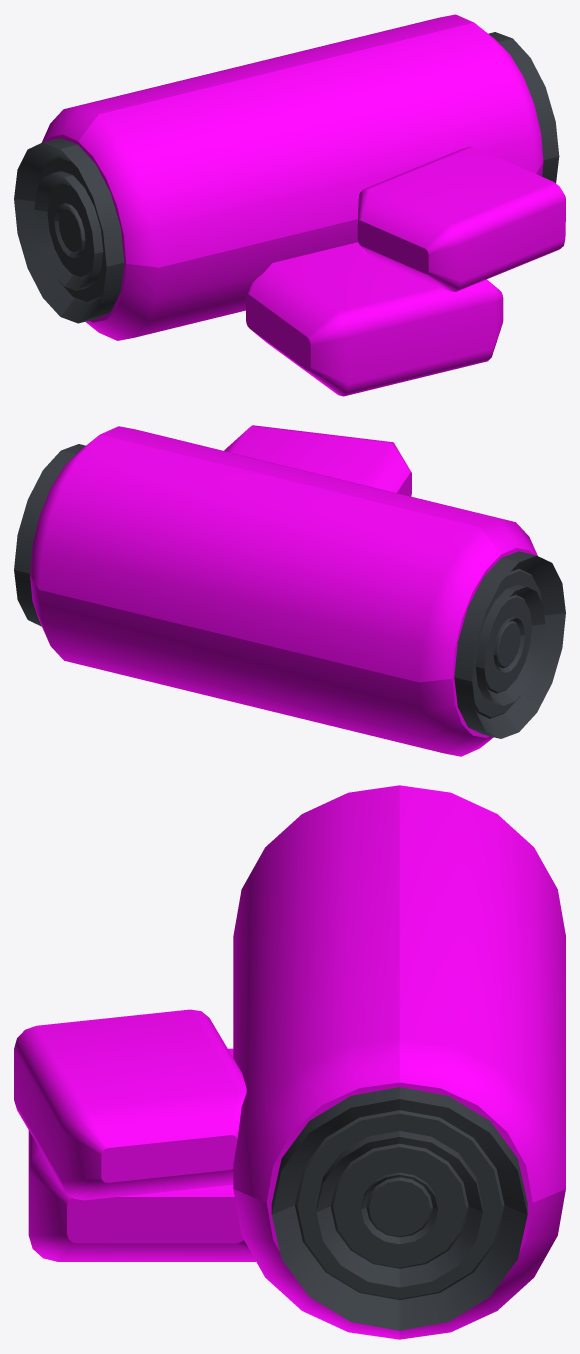
The model's file is objet_caoutchouc.glb.
3 views of the same model, one above another, from view 1: azimuth 30°, elevation 25°; view 2: azimuth 150°, elevation 25°; view 3: azimuth 270°, elevation 25° (orthographic). The views are drawn at different scales.
Parts seen in each view (by area): view 1: caoutchouc_teinte.002, caoutchouc_teinte_sombre.002; view 2: caoutchouc_teinte.002, caoutchouc_teinte_sombre.002; view 3: caoutchouc_teinte.002, caoutchouc_teinte_sombre.002.
Part boxes in pixels (x1,y1,x2,y2): caoutchouc_teinte.002: (42, 14, 565, 396); caoutchouc_teinte_sombre.002: (14, 32, 559, 323); caoutchouc_teinte.002: (30, 425, 537, 756); caoutchouc_teinte_sombre.002: (14, 444, 565, 738); caoutchouc_teinte.002: (14, 785, 565, 1339); caoutchouc_teinte_sombre.002: (271, 1087, 527, 1330).
Bounding box in the file's own units: 0.282 × 0.13 × 0.2158.
